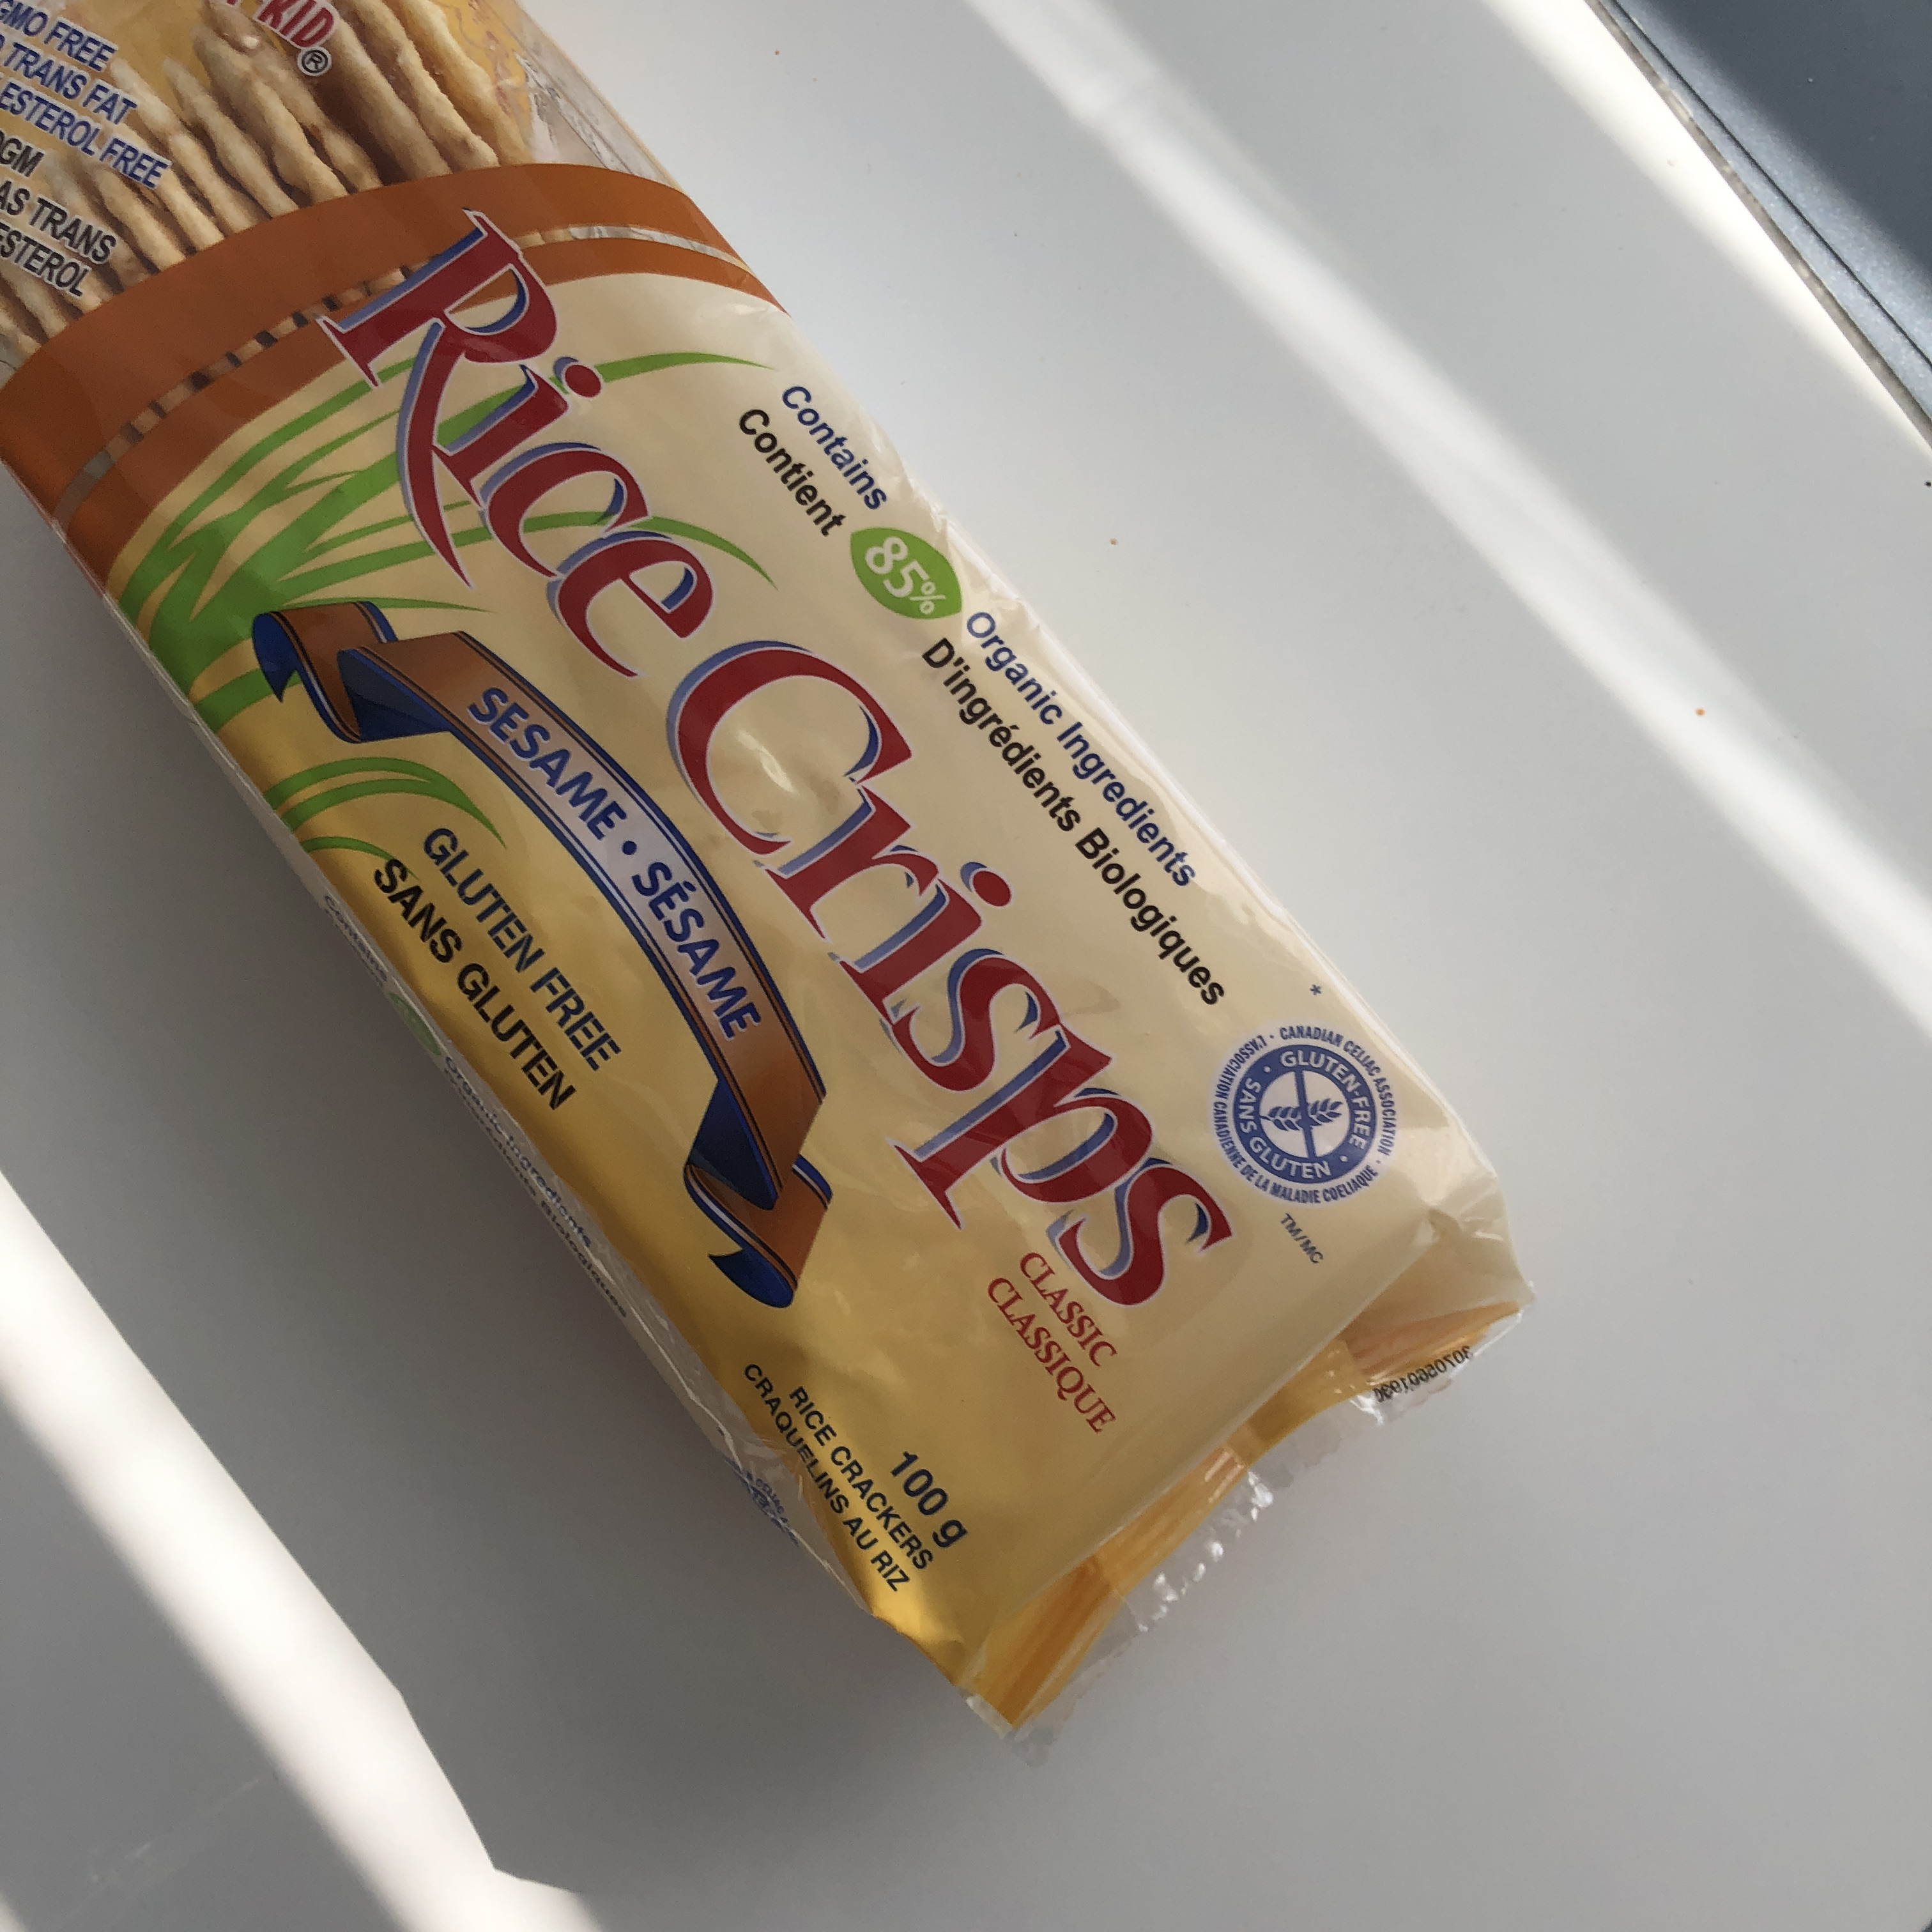hot_kid_rice_crisps_sesame: (1, 552, 1324, 1911)
